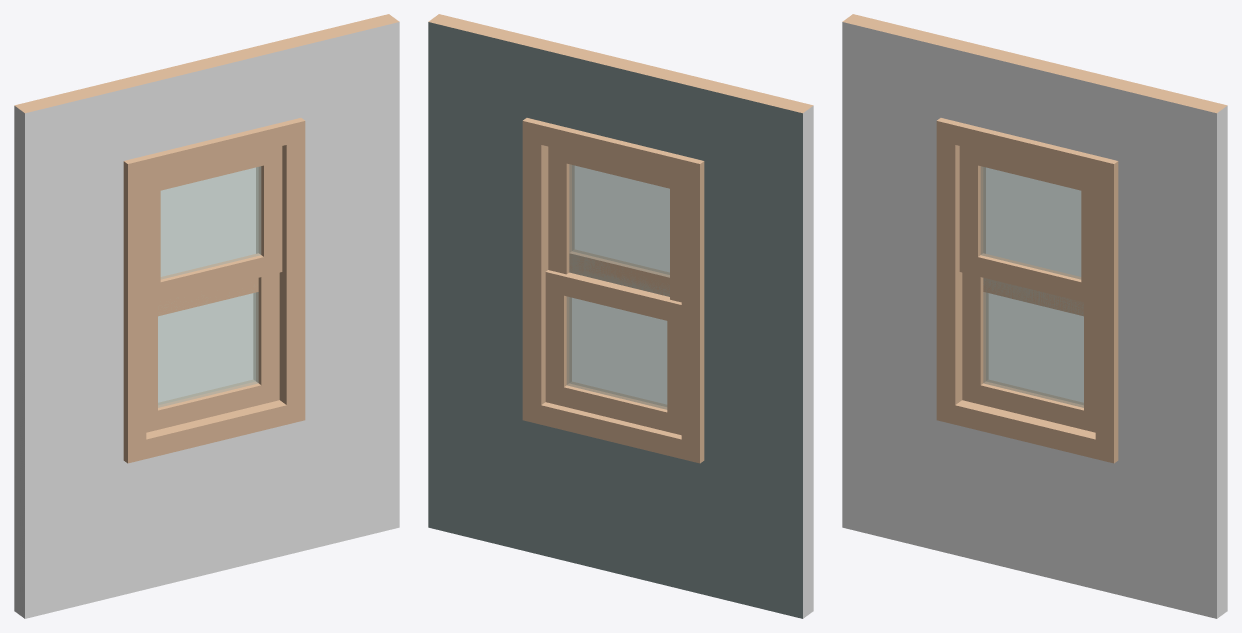
The model's file is wallWindow.glb.
3 views of the same model, side by side, from view 1: azimuth 30°, elevation 25°; view 2: azimuth 150°, elevation 25°; view 3: azimuth 330°, elevation 25° (orthographic).
Parts seen in each view (by area): view 1: wallWindowSlide(Clone), window, windowTop, windowBottom; view 2: wallWindowSlide(Clone), window, windowBottom, windowTop; view 3: wallWindowSlide(Clone), window, windowTop, windowBottom.
Boxes of the visible parts, x1,y1,x2,y2 form: wallWindowSlide(Clone): [14, 14, 399, 618]; window: [146, 167, 279, 432]; windowTop: [146, 146, 282, 304]; windowBottom: [158, 277, 258, 407]; wallWindowSlide(Clone): [428, 14, 813, 618]; window: [548, 146, 681, 406]; windowBottom: [545, 270, 681, 435]; windowTop: [569, 164, 669, 296]; wallWindowSlide(Clone): [842, 14, 1227, 618]; window: [962, 167, 1095, 432]; windowTop: [959, 146, 1095, 304]; windowBottom: [983, 278, 1083, 407].
Size of the model in its own units: 1 by 1.29 by 0.0891.
